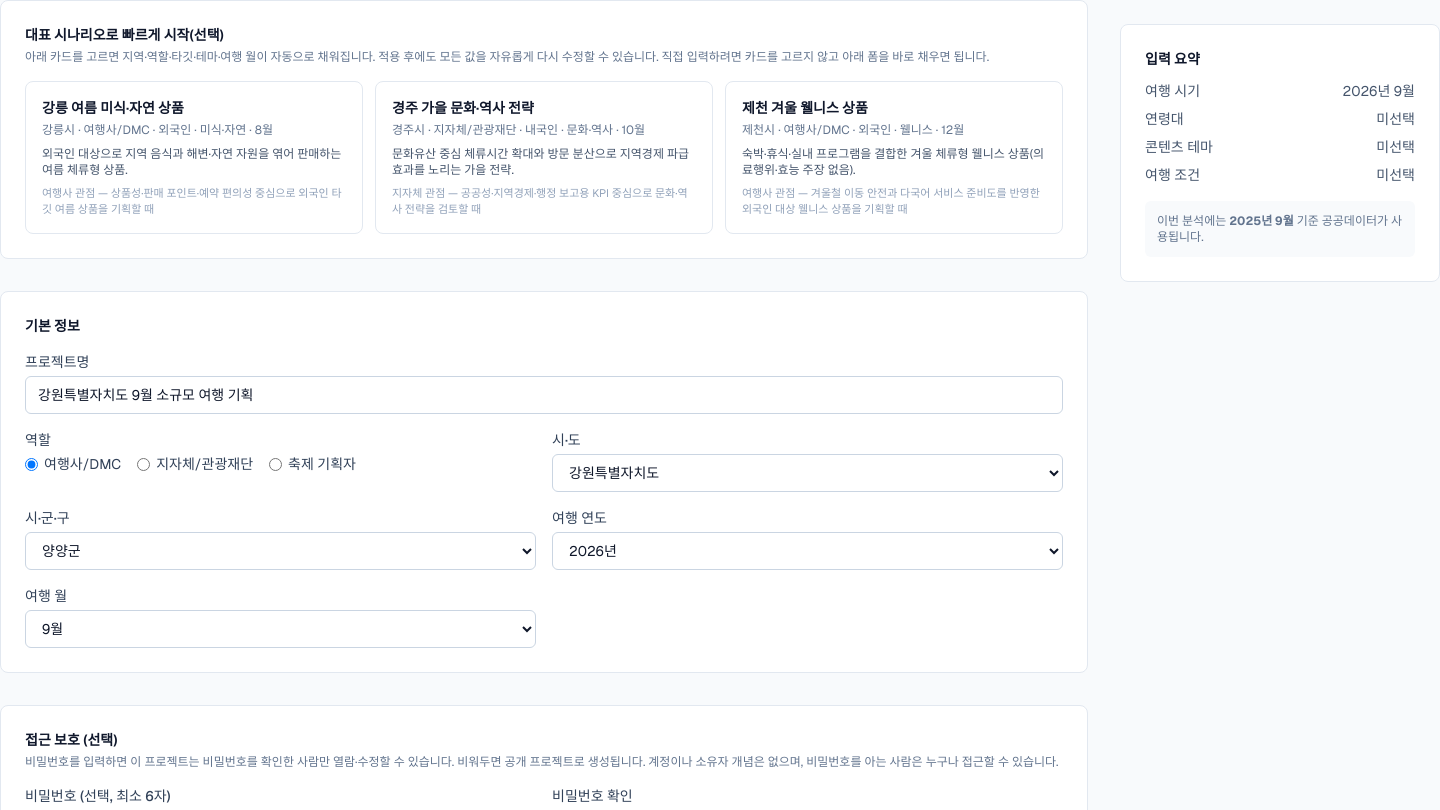
Scenario: ProjectInputForm › 여행 월을 바꾸면 입력 요약에 즉시 반영된다
Step 1. Select "3월" in the dropdown labelled "여행 월" → point(280, 629), box [25,610,536,648]
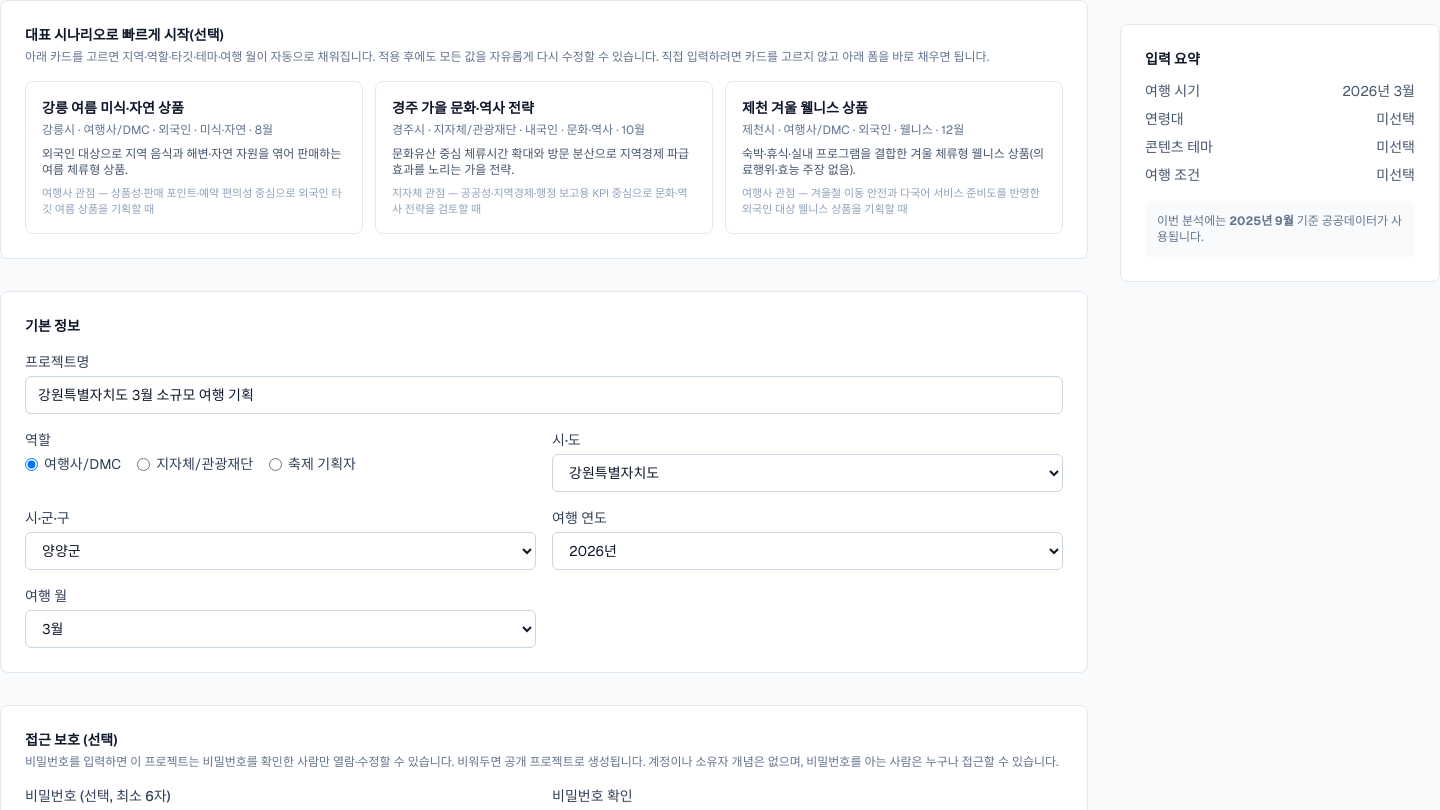
Now the text "2026년 3월" is shown, box [1342,81,1415,101]
